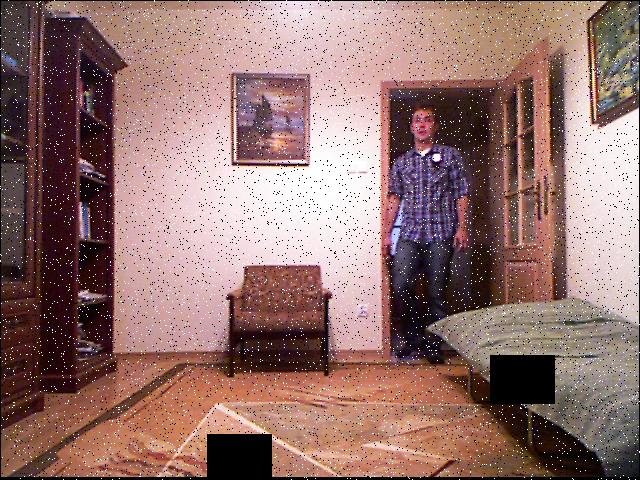walking: (388, 98, 476, 400)
